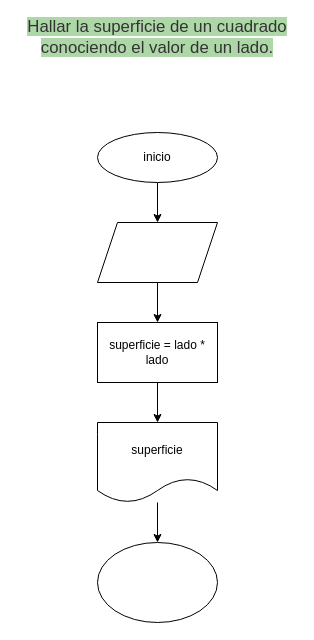
Image size: 314x640. Some labels were removed from this diagram. Each missing label, with the centre of its shape:
"Final" belongs at pixel 157 582.
"lado" belongs at pixel 157 252.
